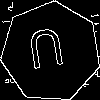U: (25, 27, 68, 79)
